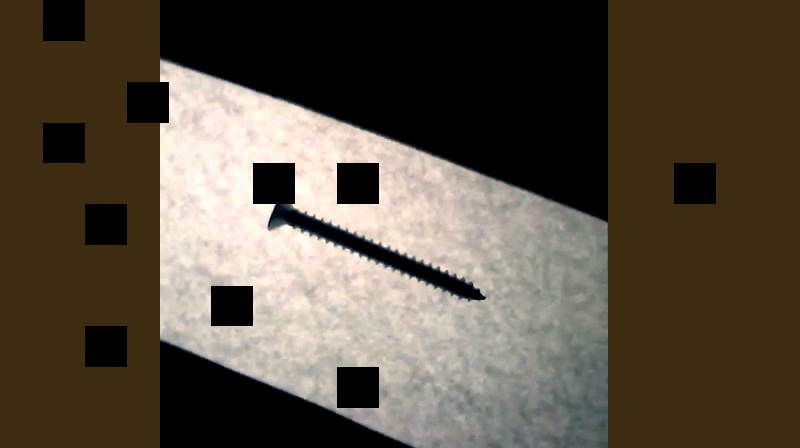S002: (265, 187, 490, 303)
